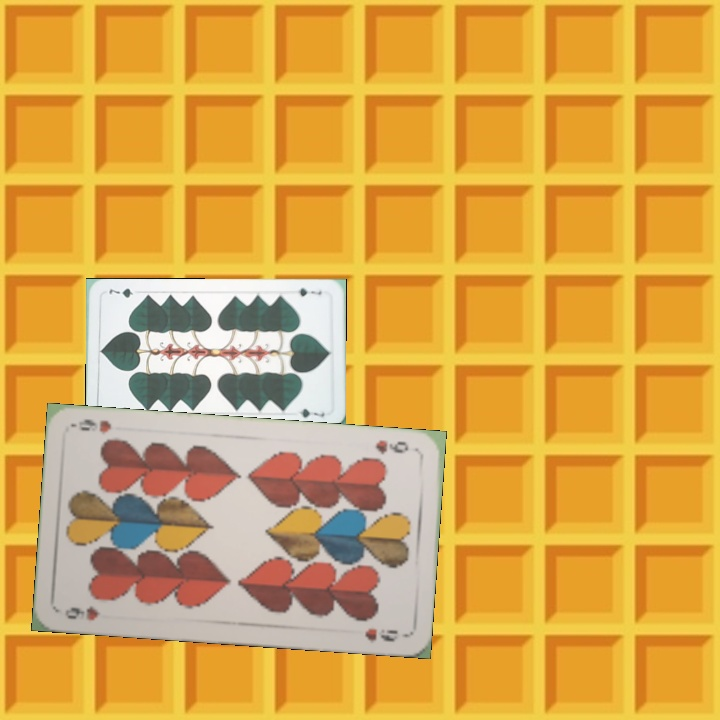G7: (294, 284, 324, 299)
H9: (61, 602, 103, 623), (372, 435, 411, 457)
